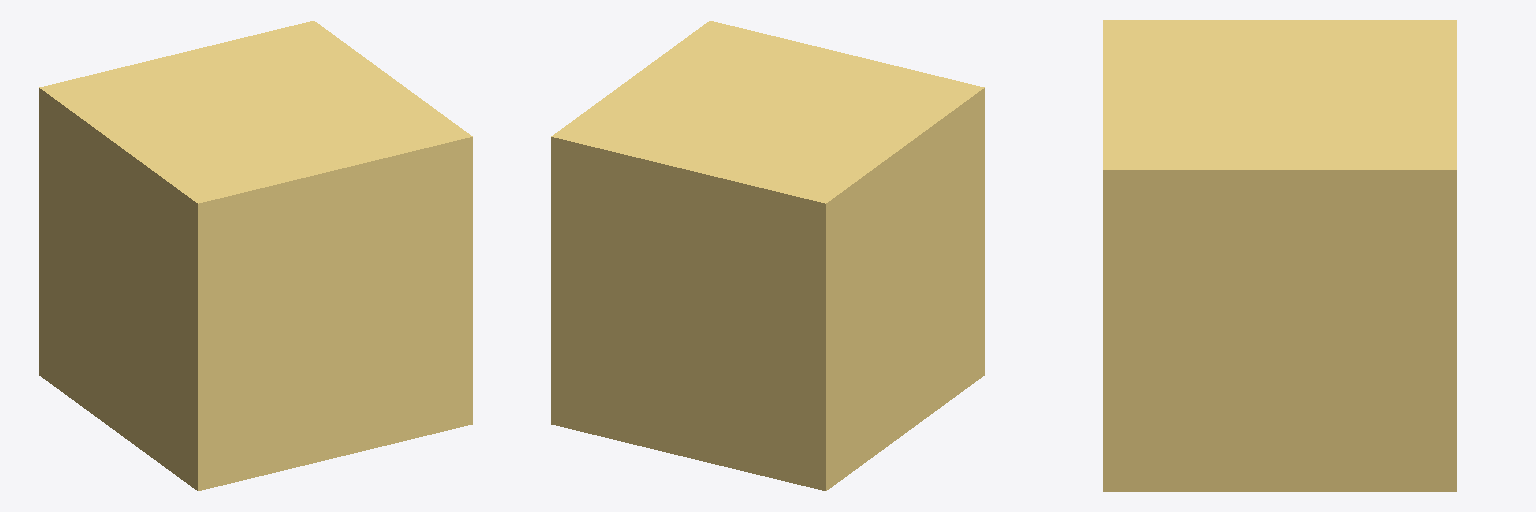
robot.urdf — forked food:
<robot name="forked food">
  <link name="forked food">
    <!-- <contact>
      <lateral_friction value="1.0"/>
      <rolling_friction value="0.0001"/>
      <inertia_scaling value="3.0"/>
    </contact> -->
    <collision>
      <origin xyz="0.0 0.0 0.015" />
      <geometry>
        <mesh filename="meshes/forked_food.dae" scale="0.04 0.04 0.04"/>
      </geometry>
    </collision>
    <visual>
      <origin xyz="0.0 0.0 0.015" />
      <material name="light yellow">
        <color rgba="1. 0.9 0.6 1.0" />
      </material>
      <geometry>
        <box size="0.04 0.04 0.04" />
      </geometry>
    </visual>
  </link>
</robot>

--- Facts derived from the render (not from the file) ---
3 views of the same robot in one strip: view 1: azimuth 30°, elevation 25°; view 2: azimuth 150°, elevation 25°; view 3: azimuth 270°, elevation 25° (orthographic).
Model forked food with 1 links and 0 joints (none), rooted at forked food, posed all joints at 0.
Visible links, largest first — view 1: forked food; view 2: forked food; view 3: forked food.
Link boxes in pixels (x1,y1,x2,y2): forked food: [39, 21, 472, 490]; forked food: [551, 21, 984, 490]; forked food: [1103, 20, 1456, 491].
Bounding box of the posed robot: 0.04 × 0.04 × 0.04 m (x, y, z).
Geometry: primitives only (box / cylinder / sphere), no mesh files.